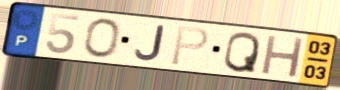5: (44, 11, 81, 55)
H: (259, 33, 307, 79)
J: (132, 24, 167, 63)
O: (82, 17, 122, 60)
P: (169, 25, 211, 68)
Q: (221, 30, 263, 75)
